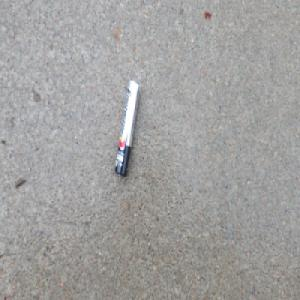Battery: (113, 79, 140, 178)
